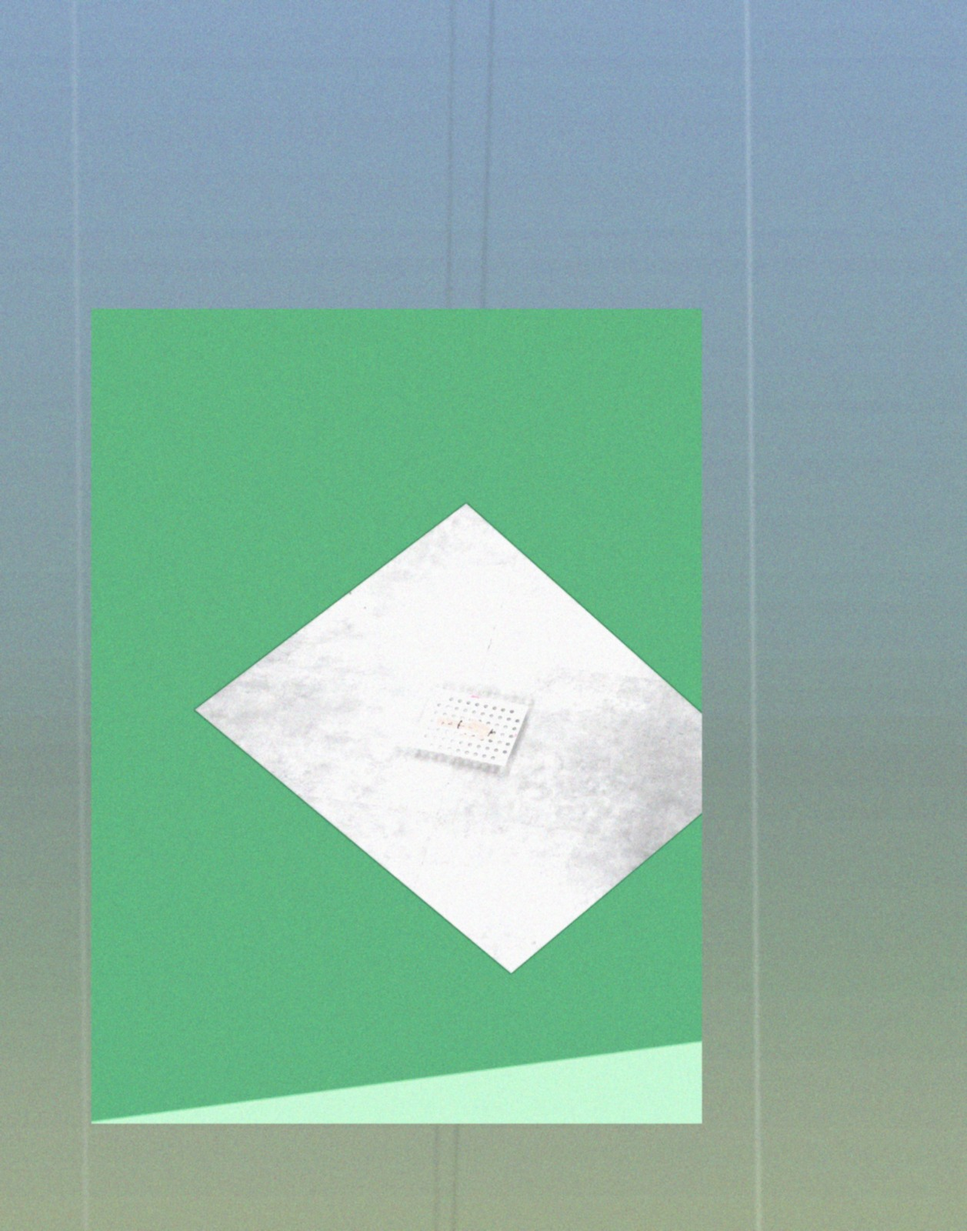basket: (406, 679, 530, 778)
mannequin: (433, 714, 499, 742)
